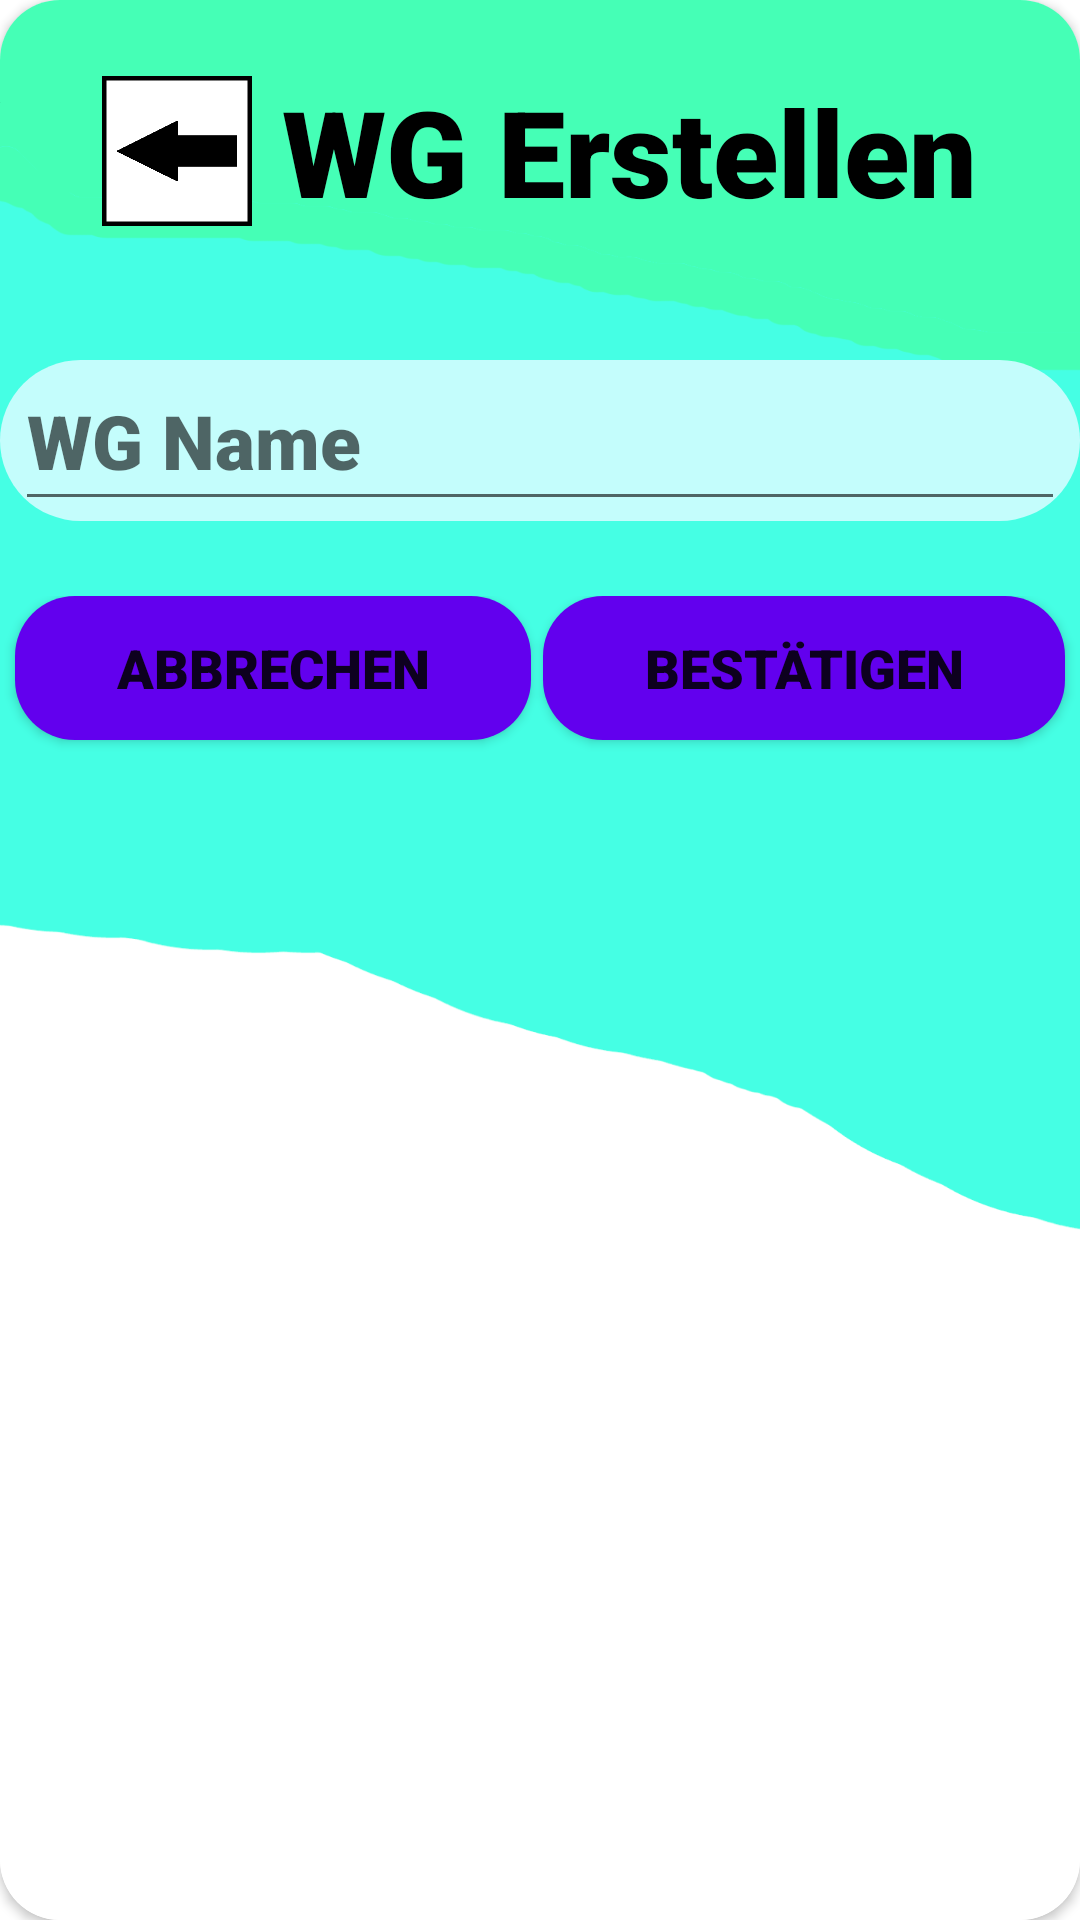

Where to tap for icons on this 1080 x 1920 app screen, as point (x, y):
zurueck: point (177, 151)
